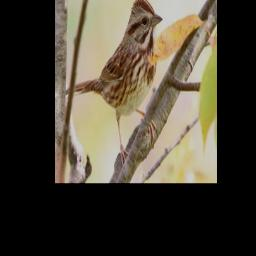Sparrow: (64, 0, 164, 168)
